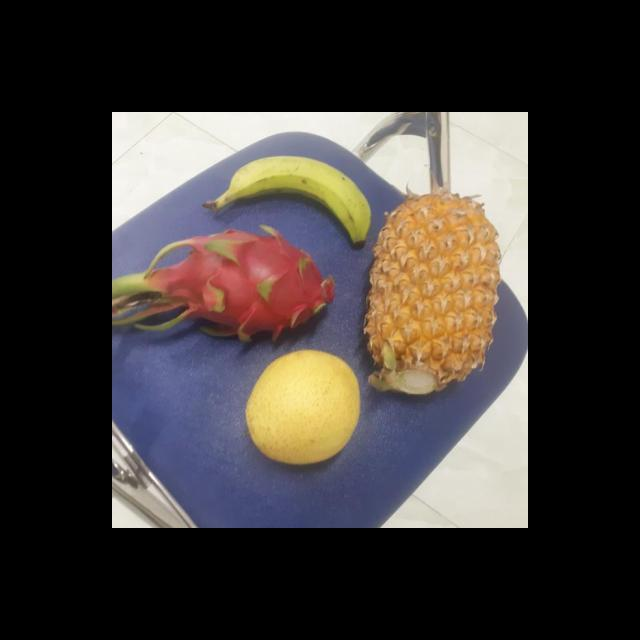banana: (222, 154, 374, 240)
guava: (248, 351, 366, 466)
pear: (244, 348, 365, 466)
pineapple: (362, 195, 504, 401)
pitaya: (156, 227, 352, 346)
